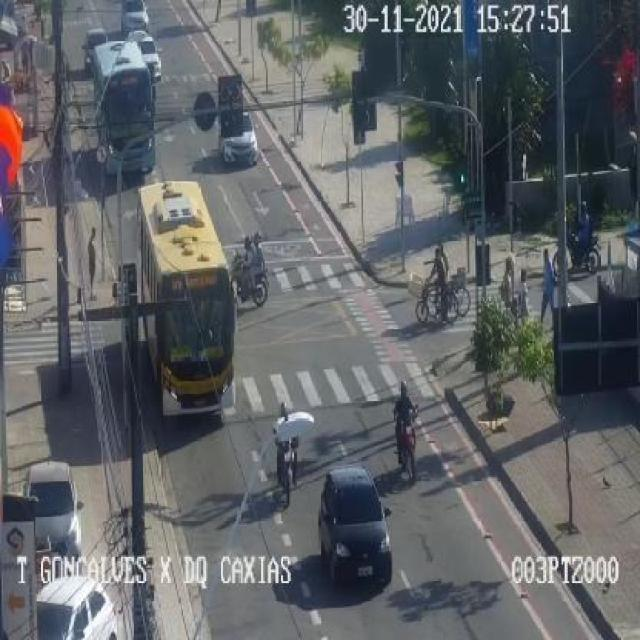Bus: (132, 170, 241, 438), (78, 34, 166, 176)
Car: (303, 467, 412, 598), (221, 102, 262, 170), (72, 27, 106, 70), (134, 38, 172, 76), (124, 0, 158, 26)
Cycle: (215, 206, 281, 301), (417, 229, 461, 343), (384, 365, 432, 465), (558, 189, 608, 283), (432, 240, 476, 320), (272, 441, 300, 509)
